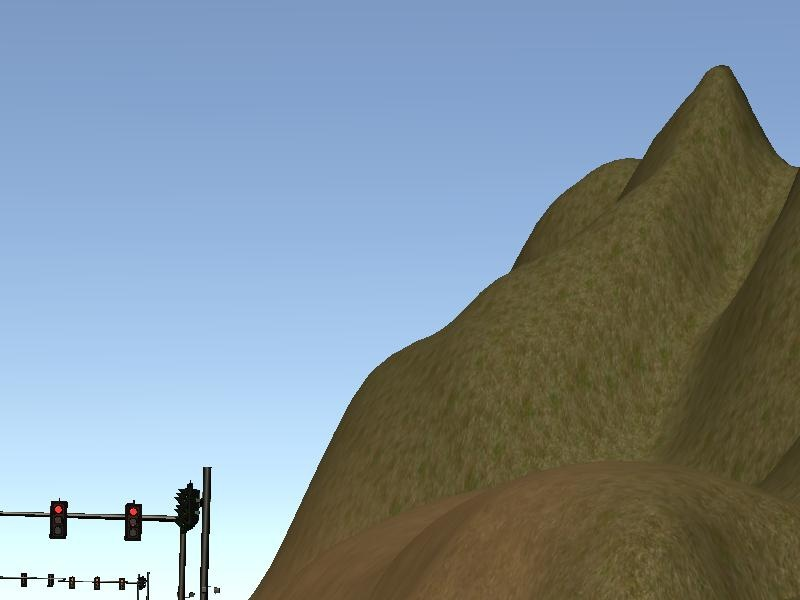red: (121, 501, 145, 543), (49, 497, 68, 543)
